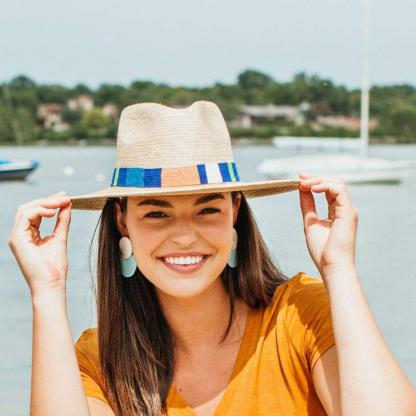hat: (55, 98, 319, 216)
